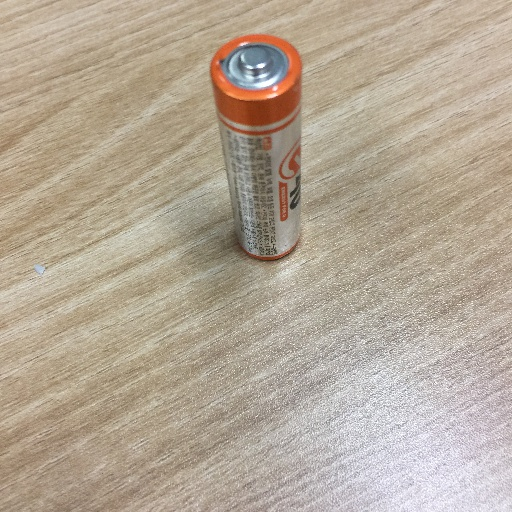Battery_0: (203, 23, 317, 277)
